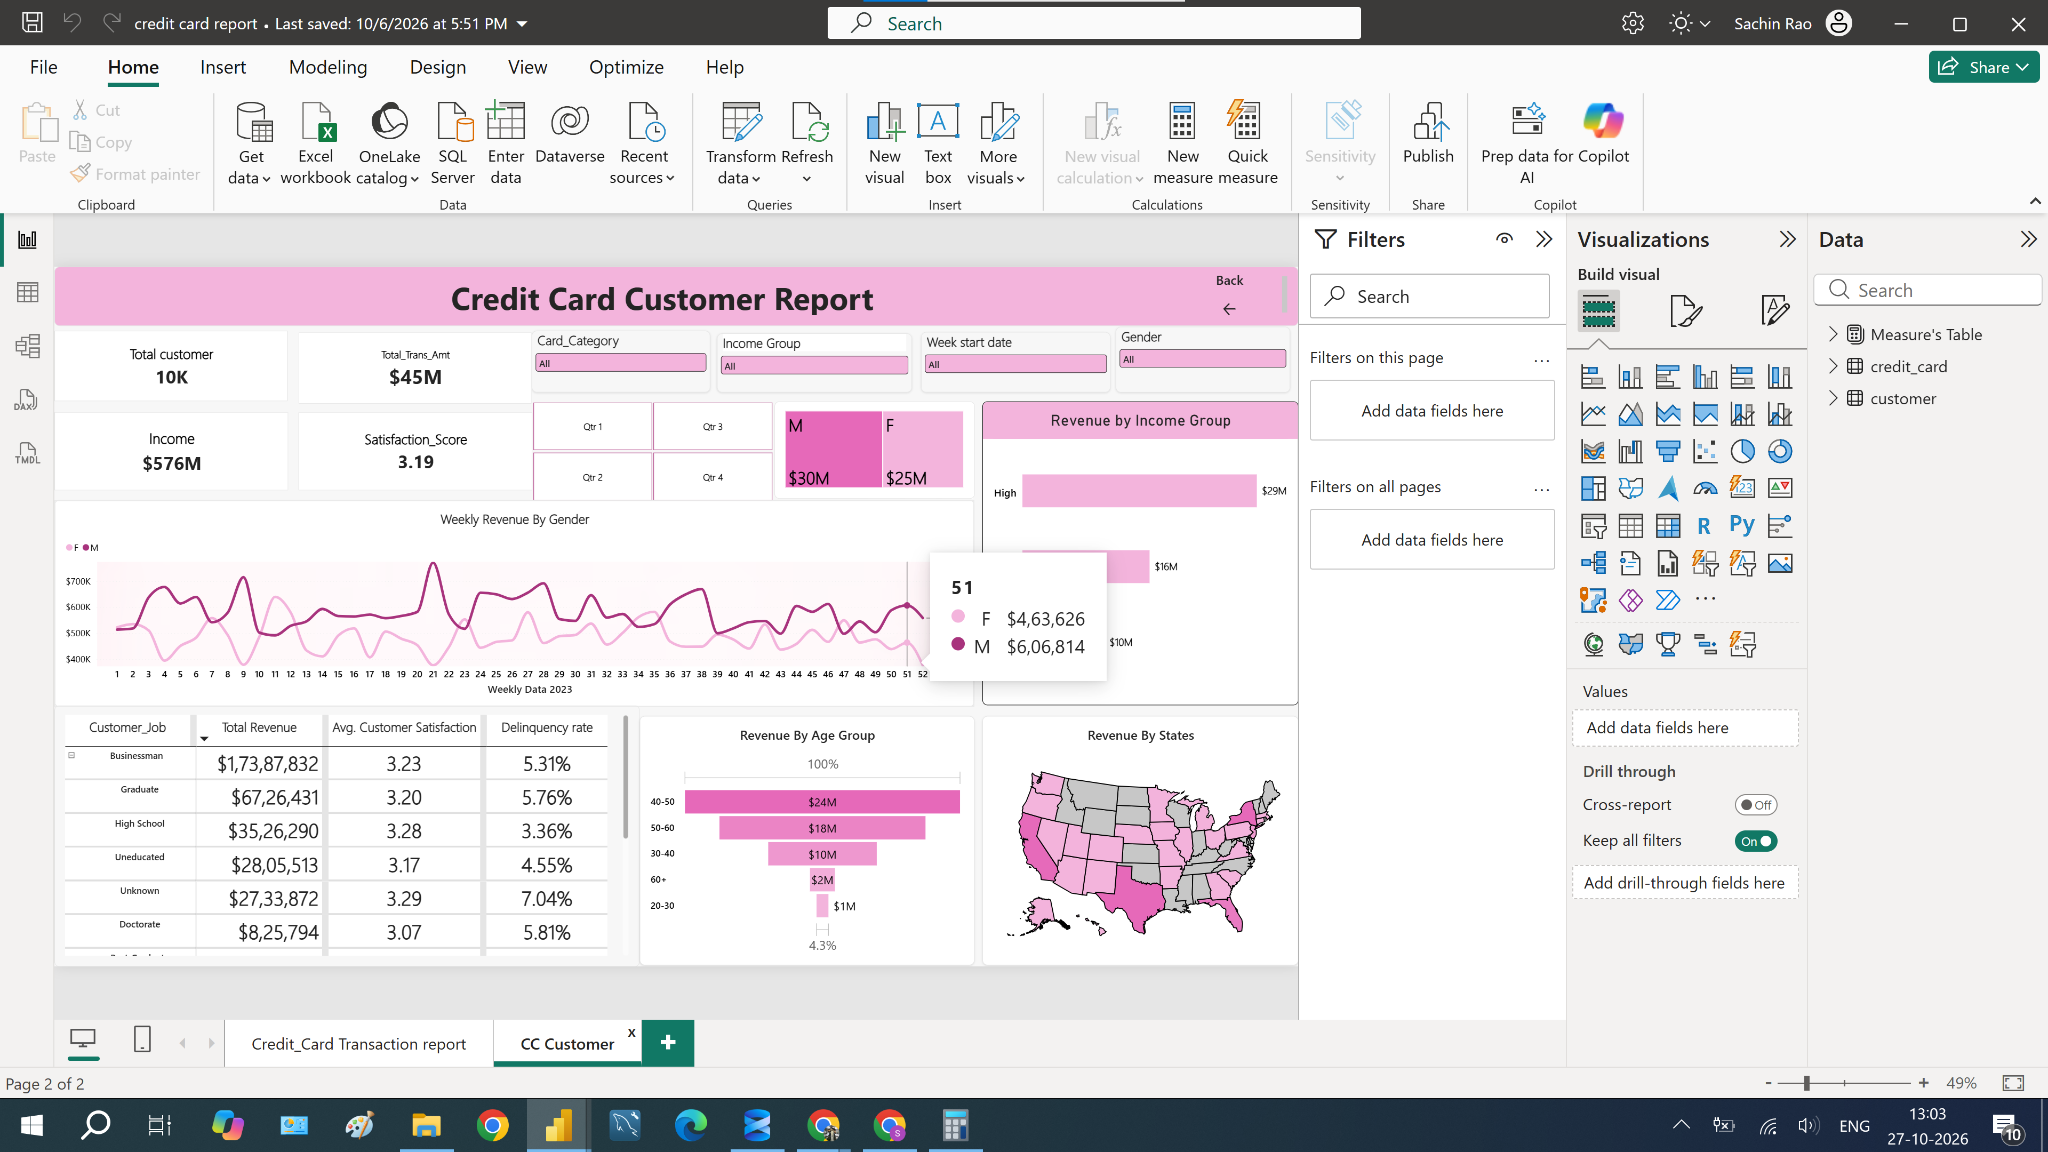

The dashboard page shown, as its layout file describes it:
{"tool":"powerbi","page":{"name":"CC Customer","canvas":[1920,1080],"ordinal":1},"visuals":[{"type":"textbox","box":[0,0,1920.5,91.8],"z":0},{"type":"group","id":"g1","title":"Group 7","box":[1024.6,93.2,883.9,101.7],"z":0,"group":"g3"},{"type":"slicer","fields":{"Values":["credit_card.Card_Category"]},"box":[737.6,98.7,275.6,95.4],"z":1000,"group":"g2"},{"type":"group","id":"g2","title":"Group 6","box":[737.6,98.7,893.3,96.1],"z":1000,"group":"g3"},{"type":"cardVisual","fields":{"Data":["Sum(customer.Income)"]},"box":[0,224.6,361,121],"z":1000},{"type":"slicer","fields":{"Values":["credit_card.Corrected date's.Variation.Date Hierarchy.Quarter"]},"box":[718.6,207.7,409.1,154.7],"z":2000},{"type":"cardVisual","title":"Total Revenue","fields":{"Data":["Measure's Table.Total customer"]},"box":[0,98.8,360.2,109.1],"z":3000},{"type":"slicer","fields":{"Values":["customer.Income Group"]},"box":[1024.6,103.4,301,91.1],"z":3000,"group":"g1"},{"type":"barChart","title":"Revenue by Income Group","fields":{"Category":["customer.Income Group"],"Y":["Sum(credit_card.Revenue)"]},"box":[1432.6,207.9,487.8,469.3],"z":4000},{"type":"group","id":"g3","title":"Group 5","box":[737.6,93.2,1170.9,101.7],"z":5000},{"type":"cardVisual","fields":{"Data":["Avg(customer.Cust_Satisfaction_Score)"]},"box":[376,224.6,361,121],"z":6000},{"type":"cardVisual","fields":{"Data":["Sum(credit_card.Total_Trans_Amt)"]},"box":[376.7,100.9,360.2,111.1],"z":7000},{"type":"slicer","fields":{"Values":["credit_card.Corrected date's"]},"box":[1338.4,101.5,292.5,93.3],"z":8000,"group":"g2"},{"type":"lineChart","title":"Weekly Revenue By Gender","fields":{"Category":["credit_card.Week_num 2"],"Series":["customer.Gender"],"Y":["Sum(credit_card.Revenue)"]},"box":[0,360.2,1420.2,319],"z":8000},{"type":"slicer","fields":{"Values":["customer.Gender"]},"box":[1639.3,93.2,269.2,101.7],"z":9000,"group":"g1"},{"type":"treemap","fields":{"Group":["customer.Gender"],"Values":["Sum(credit_card.Revenue)"]},"box":[1110.7,207.7,309.5,150.5],"z":9000},{"type":"pivotTable","fields":{"Rows":["customer.Customer_Job","customer.Education_Level"],"Values":["Sum(credit_card.Revenue)","Avg(customer.Cust_Satisfaction_Score)","Measure's Table.Delinquency rate"]},"box":[0,677.2,903.6,403.4],"z":10000},{"type":"funnel","title":"Revenue By Age Group","fields":{"Category":["customer.AgeGroup"],"Y":["Sum(credit_card.Revenue)"]},"box":[903.6,693.7,516.6,384.9],"z":11000},{"type":"shapeMap","title":"Revenue By States","fields":{"Category":["customer.state_cd"],"Value":["Sum(credit_card.Revenue)"]},"box":[1432.6,693.7,487.8,384.9],"z":11001},{"type":"actionButton","title":"Back ","box":[1708.4,6.2,212,92.6],"z":11002}]}

Visuals, with their boxes on the page's 1920x1080 design canvas (x1, y1, x2, y2). These are canvas units, not pixel positions in the 2048x1152 screenshot, which may show the page scaled, cropped or inside an application window:
textbox: l=0, t=0, r=1920, b=92
"Group 7" group: l=1025, t=93, r=1908, b=195
slicer - credit_card.Card_Category: l=738, t=99, r=1013, b=194
"Group 6" group: l=738, t=99, r=1631, b=195
cardVisual - Sum(customer.Income): l=0, t=225, r=361, b=346
slicer - credit_card.Corrected date's.Variation.Date Hierarchy.Quarter: l=719, t=208, r=1128, b=362
"Total Revenue" cardVisual: l=0, t=99, r=360, b=208
slicer - customer.Income Group: l=1025, t=103, r=1326, b=194
"Revenue by Income Group" barChart: l=1433, t=208, r=1920, b=677
"Group 5" group: l=738, t=93, r=1908, b=195
cardVisual - Avg(customer.Cust_Satisfaction_Score): l=376, t=225, r=737, b=346
cardVisual - Sum(credit_card.Total_Trans_Amt): l=377, t=101, r=737, b=212
slicer - credit_card.Corrected date's: l=1338, t=102, r=1631, b=195
"Weekly Revenue By Gender" lineChart: l=0, t=360, r=1420, b=679
slicer - customer.Gender: l=1639, t=93, r=1908, b=195
treemap - customer.Gender x Sum(credit_card.Revenue): l=1111, t=208, r=1420, b=358
pivotTable - customer.Customer_Job x customer.Education_Level: l=0, t=677, r=904, b=1081
"Revenue By Age Group" funnel: l=904, t=694, r=1420, b=1079
"Revenue By States" shapeMap: l=1433, t=694, r=1920, b=1079
"Back " actionButton: l=1708, t=6, r=1920, b=99
